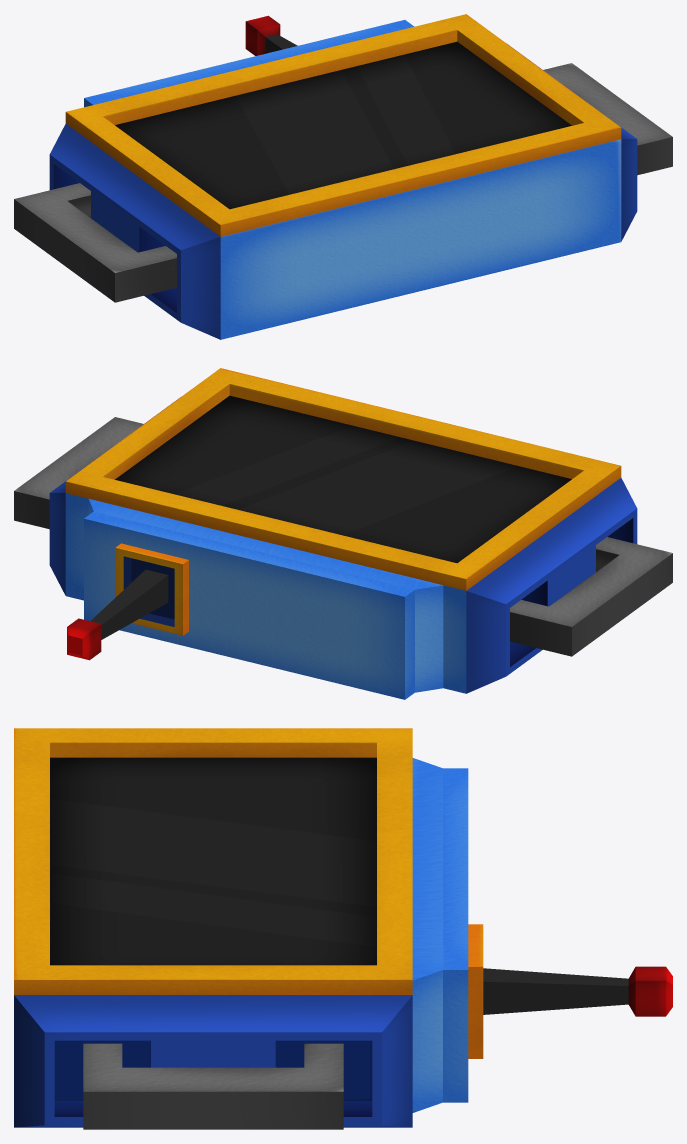
File: Navigation.FBX
3 views of the same model, one above another, from view 1: azimuth 30°, elevation 25°; view 2: azimuth 150°, elevation 25°; view 3: azimuth 270°, elevation 25° (orthographic). The views are drawn at different scales.
Parts seen in each view (by area): view 1: Box103; view 2: Box103; view 3: Box103.
Part boxes in pixels (box(x1,y1,x2,y2)): Box103: box(14, 14, 672, 339); Box103: box(14, 368, 672, 699); Box103: box(14, 728, 672, 1129).
Size of the model in its own units: 13 by 10.33 by 2.55.
1 material, 1 textured.
